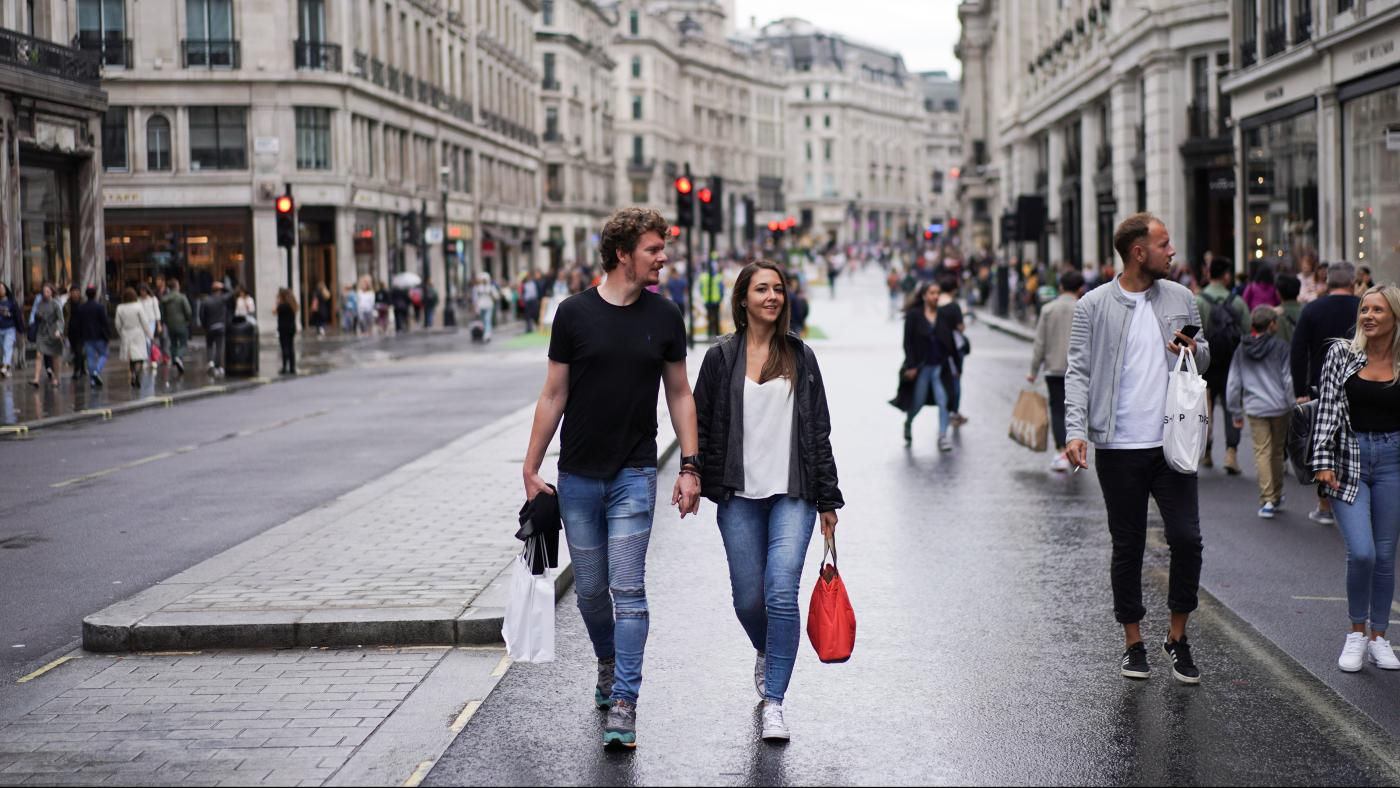person: (509, 194, 712, 761), (682, 247, 866, 752), (1051, 206, 1235, 707), (1303, 272, 1400, 685), (1217, 298, 1308, 530), (885, 277, 976, 459)
